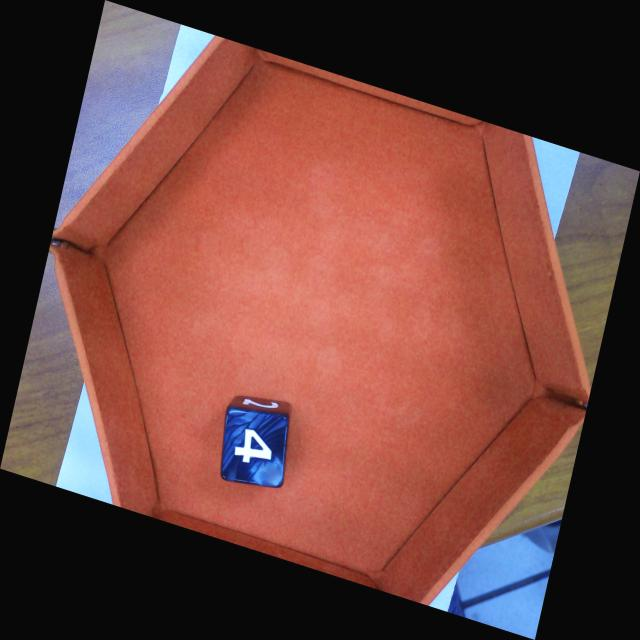dice: (218, 407, 290, 491)
